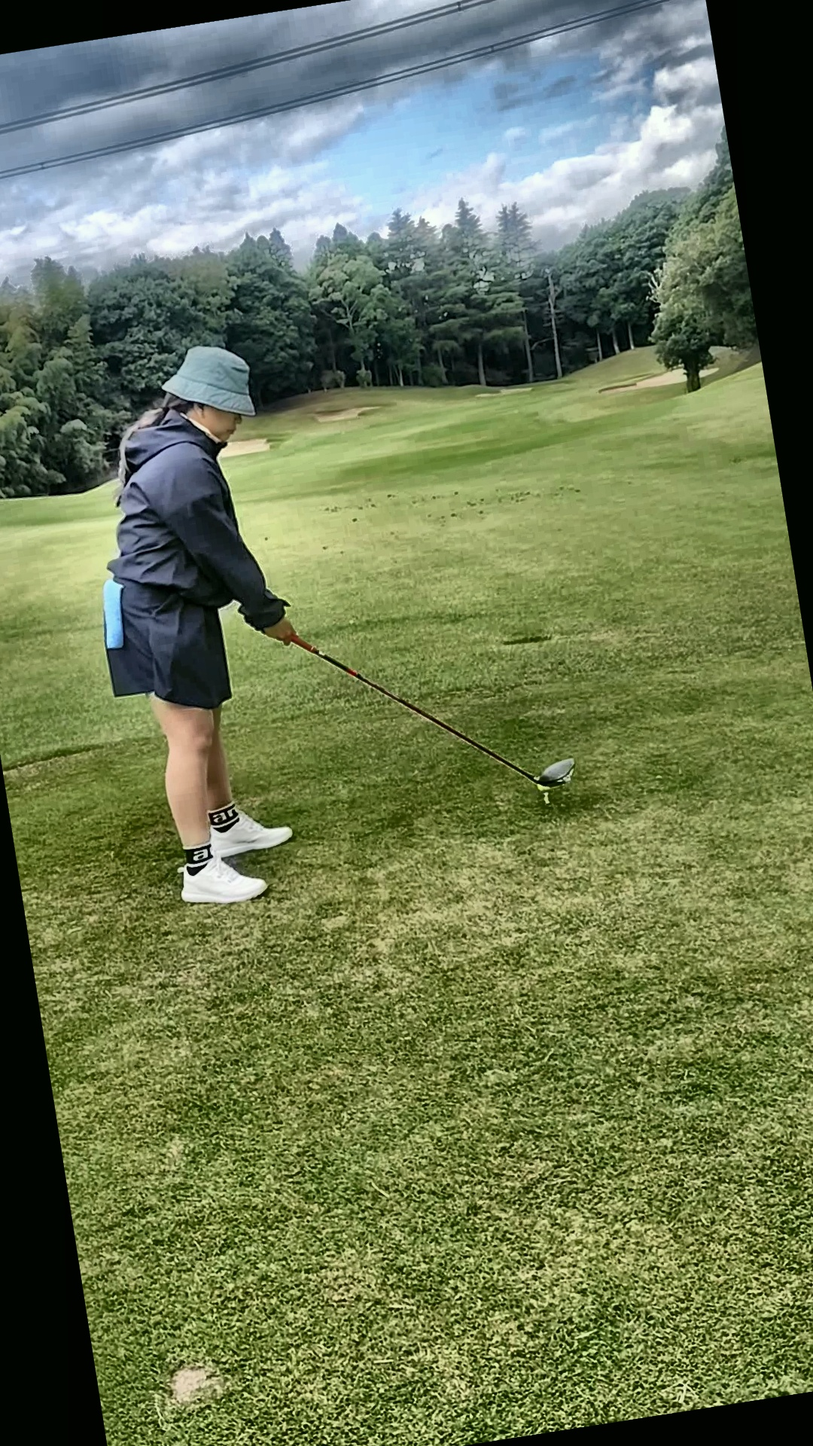clubhead: (462, 714, 620, 859)
